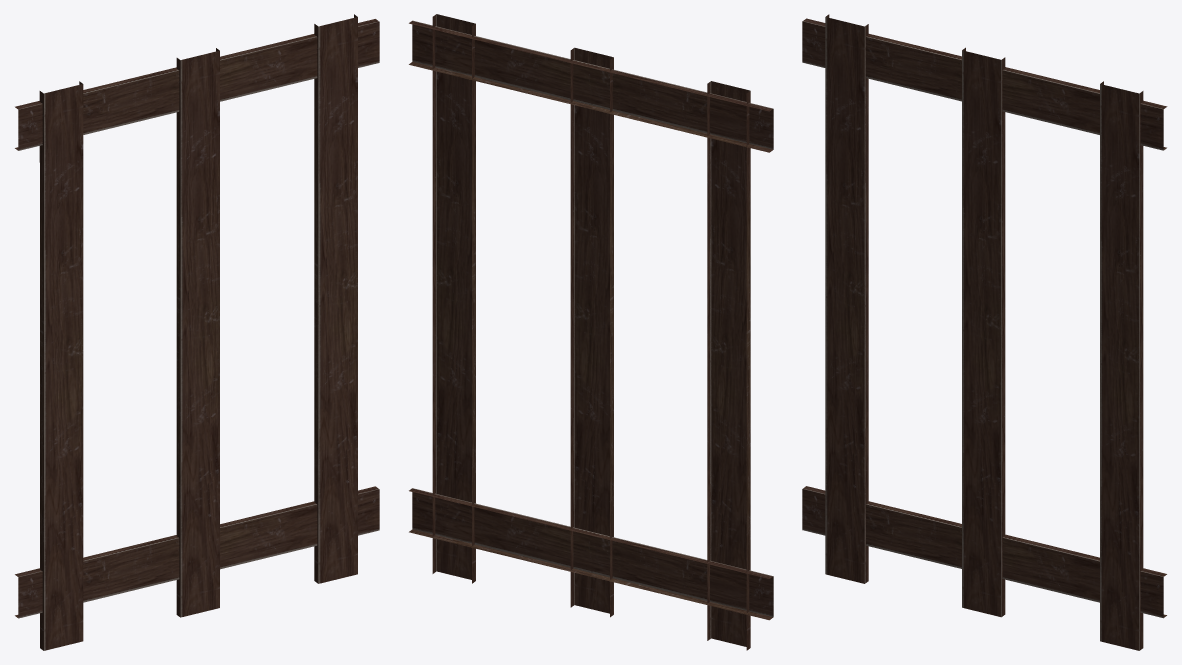
Rendered from WindowFrames.fbx.
3 renders of one model, left to right at view 1: azimuth 30°, elevation 25°; view 2: azimuth 150°, elevation 25°; view 3: azimuth 330°, elevation 25°, orthographic.
Visible parts, largest first — view 1: WindowFrames; view 2: WindowFrames; view 3: WindowFrames.
Part boxes in pixels (bbox=[...]): WindowFrames: bbox=[15, 14, 379, 650]; WindowFrames: bbox=[409, 14, 773, 650]; WindowFrames: bbox=[802, 14, 1167, 650].
Bounding box in the file's own units: 94.91 × 140 × 2.37.
Materials: 1 (1 with a texture image).
